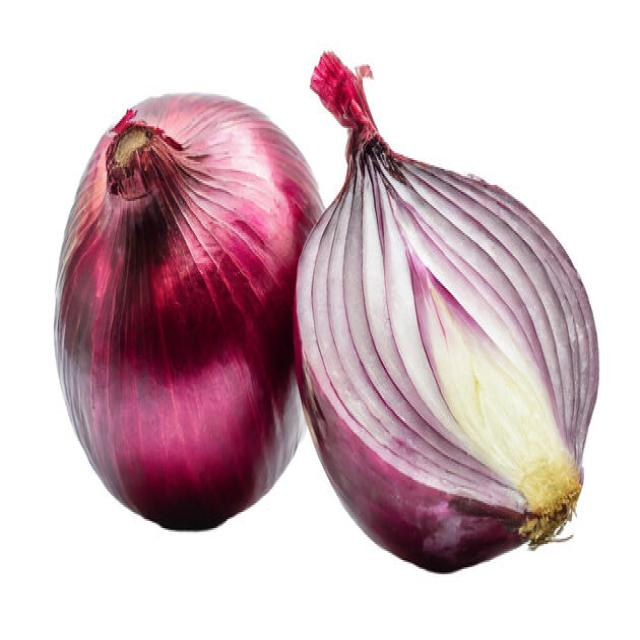Onion: (292, 48, 600, 574), (52, 89, 325, 531)
